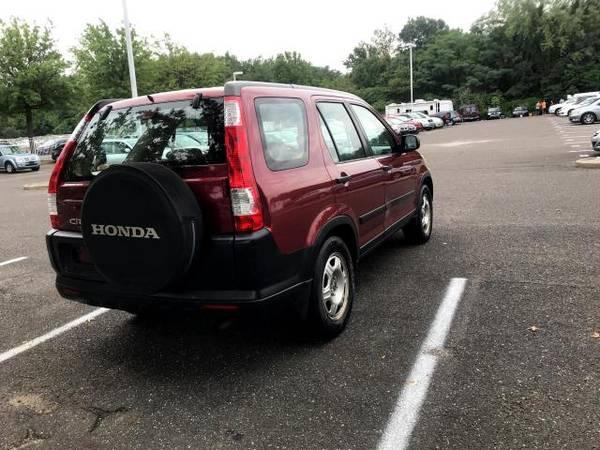Front_Right_Door: (373, 154, 417, 239)
Front_Right_Window: (347, 105, 402, 158)
Left_Taillight: (45, 108, 92, 227)
Rear_Bumper: (46, 227, 314, 316)
Rear_Fender: (253, 96, 338, 254)
Rear_Right_Door: (325, 158, 386, 260)
Rear_Right_Window: (314, 104, 373, 167)
Rear_Windshield: (58, 96, 224, 181)
Right_Taillight: (226, 96, 265, 233)
Roof: (95, 82, 405, 179)
Tailgate: (175, 164, 236, 236), (53, 180, 85, 233)
Wheel: (74, 155, 202, 294), (312, 233, 357, 330), (402, 185, 435, 240)
